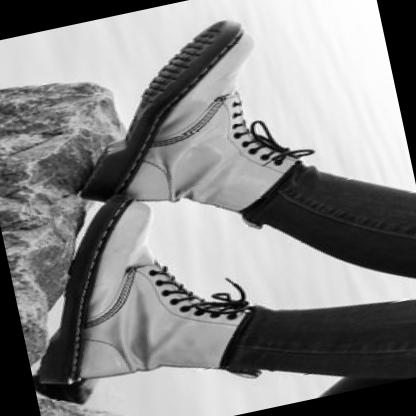ankle: (165, 335, 176, 344), (209, 161, 218, 168)
heel: (83, 369, 95, 377), (133, 186, 140, 193)
left_foot: (9, 182, 242, 407)
pinky: (113, 233, 126, 241), (247, 49, 250, 52)
right_foot: (52, 12, 303, 218)
toe: (138, 209, 151, 218), (229, 52, 233, 55)
